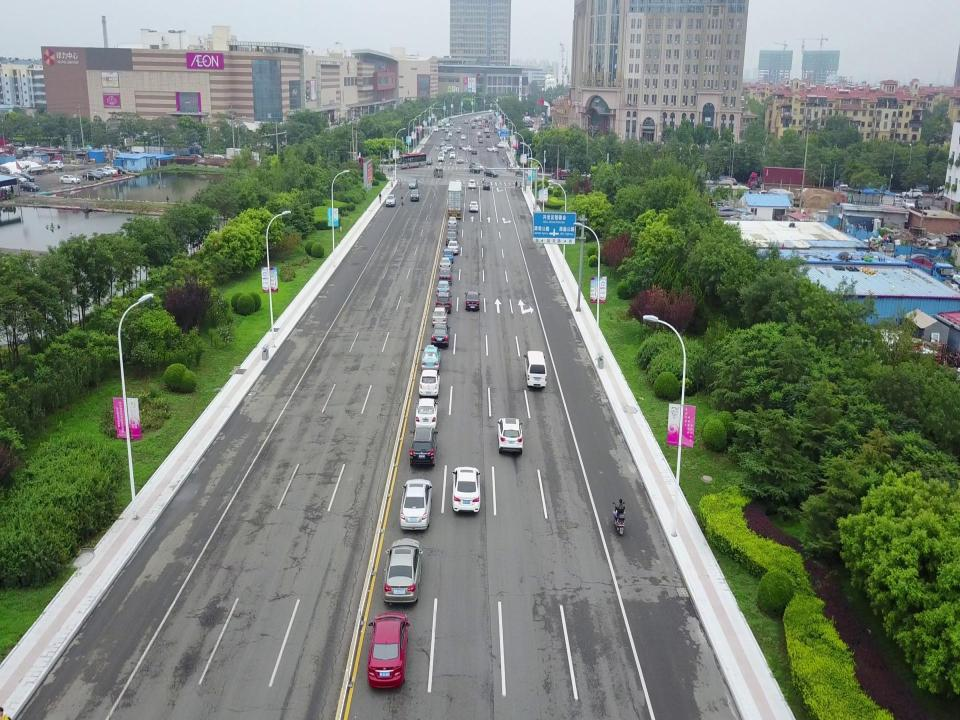bus: (396, 152, 425, 169)
car: (366, 612, 410, 690), (382, 536, 423, 604), (399, 477, 433, 531), (452, 465, 482, 515), (409, 426, 437, 468), (496, 417, 524, 456), (414, 398, 437, 429), (418, 369, 440, 397), (421, 345, 441, 371), (430, 323, 450, 347), (435, 291, 452, 313), (464, 290, 480, 312), (432, 306, 448, 326), (438, 267, 452, 285), (59, 174, 80, 185), (436, 280, 450, 296), (19, 181, 39, 192), (84, 170, 104, 180), (46, 160, 64, 170), (17, 173, 35, 183), (82, 172, 101, 181), (439, 256, 451, 270), (445, 231, 457, 245), (442, 248, 453, 263), (9, 174, 27, 183), (95, 167, 111, 177), (447, 241, 459, 254), (111, 165, 127, 174), (386, 193, 396, 207), (447, 224, 458, 236), (484, 168, 498, 177), (103, 166, 117, 175), (468, 200, 478, 212), (410, 189, 420, 201), (447, 217, 457, 227), (408, 179, 418, 189), (468, 165, 480, 173), (468, 179, 476, 188), (482, 181, 490, 190)
truck: (746, 165, 816, 193), (164, 144, 204, 162), (448, 181, 462, 220), (20, 163, 48, 175), (555, 168, 581, 180)
van: (523, 350, 547, 389), (433, 168, 443, 178)
